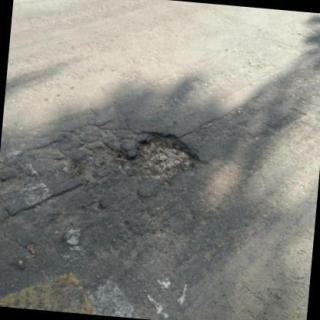pothole: (67, 135, 199, 183)
